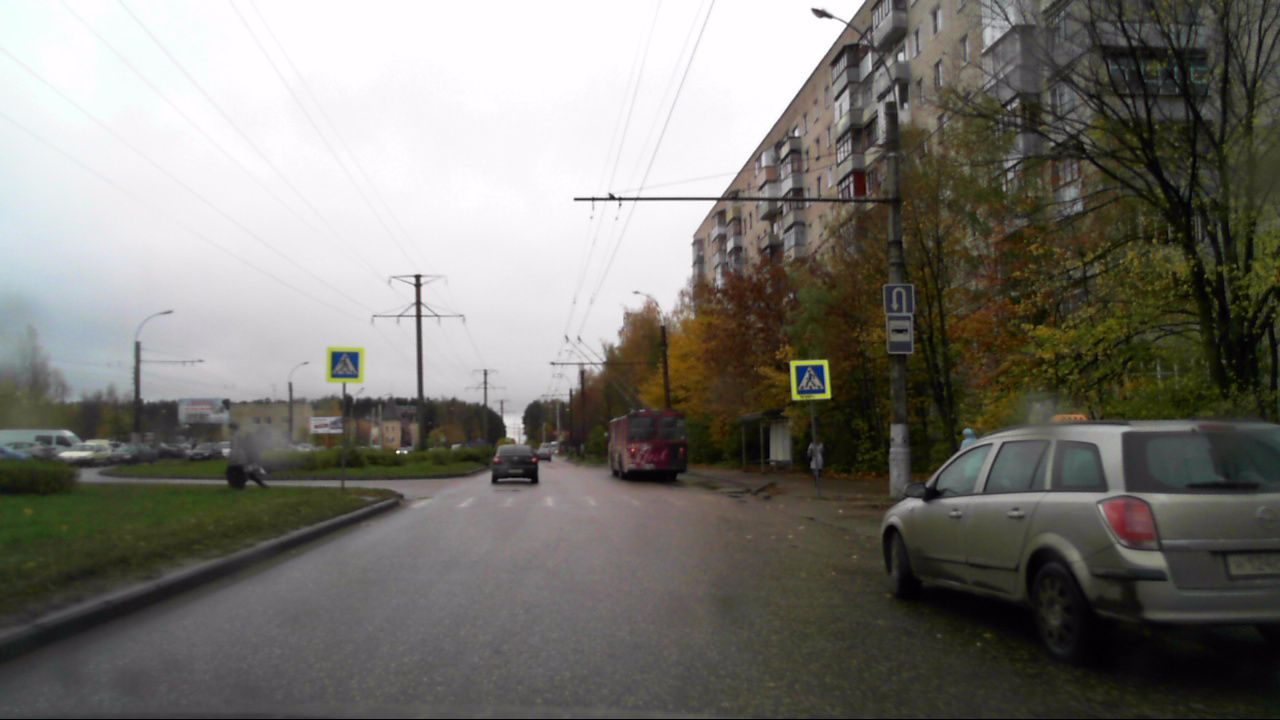Pedestrian Crossing: (795, 365, 826, 395), (331, 352, 359, 379)
U-turn: (884, 285, 914, 314)
